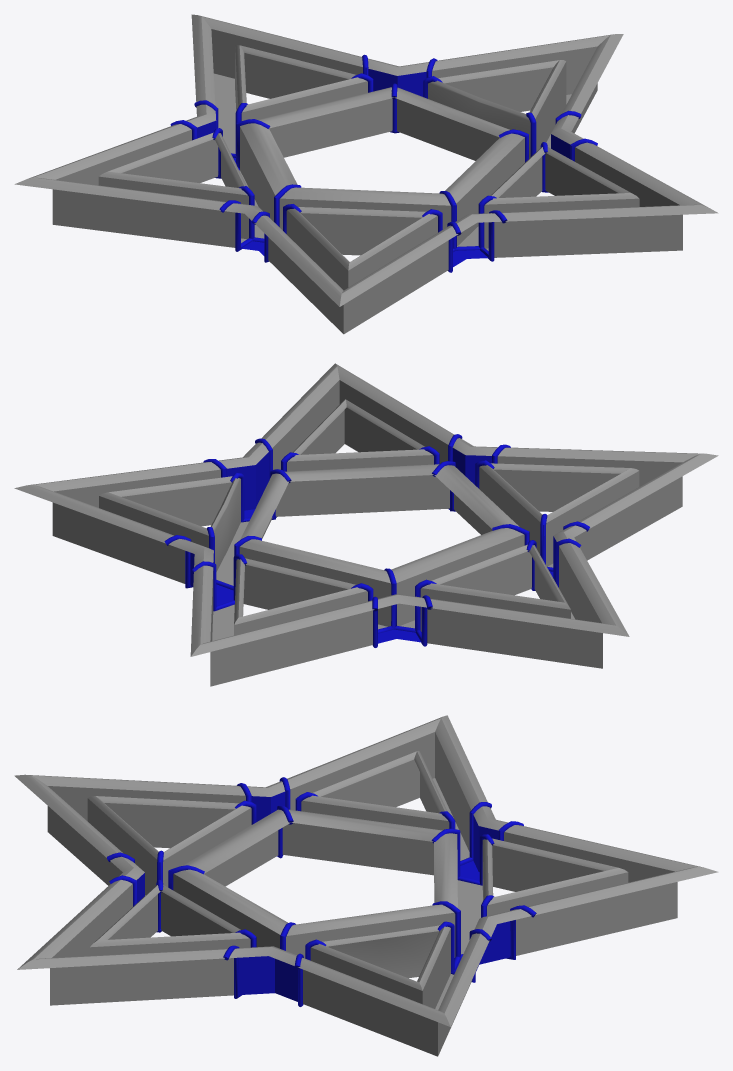
The model's file is Level_05.FBX.
3 views of the same model, one above another, from view 1: azimuth 30°, elevation 25°; view 2: azimuth 150°, elevation 25°; view 3: azimuth 270°, elevation 25° (orthographic). The views are drawn at different scales.
Visible parts, largest first — view 1: Layout_Level5; view 2: Layout_Level5; view 3: Layout_Level5.
Boxes of the visible parts, x1,y1,x2,y2 form: Layout_Level5: (14, 14, 718, 334); Layout_Level5: (14, 363, 718, 686); Layout_Level5: (14, 715, 718, 1056).
Bounding box in the file's own units: 12360 × 1044 × 11800.
